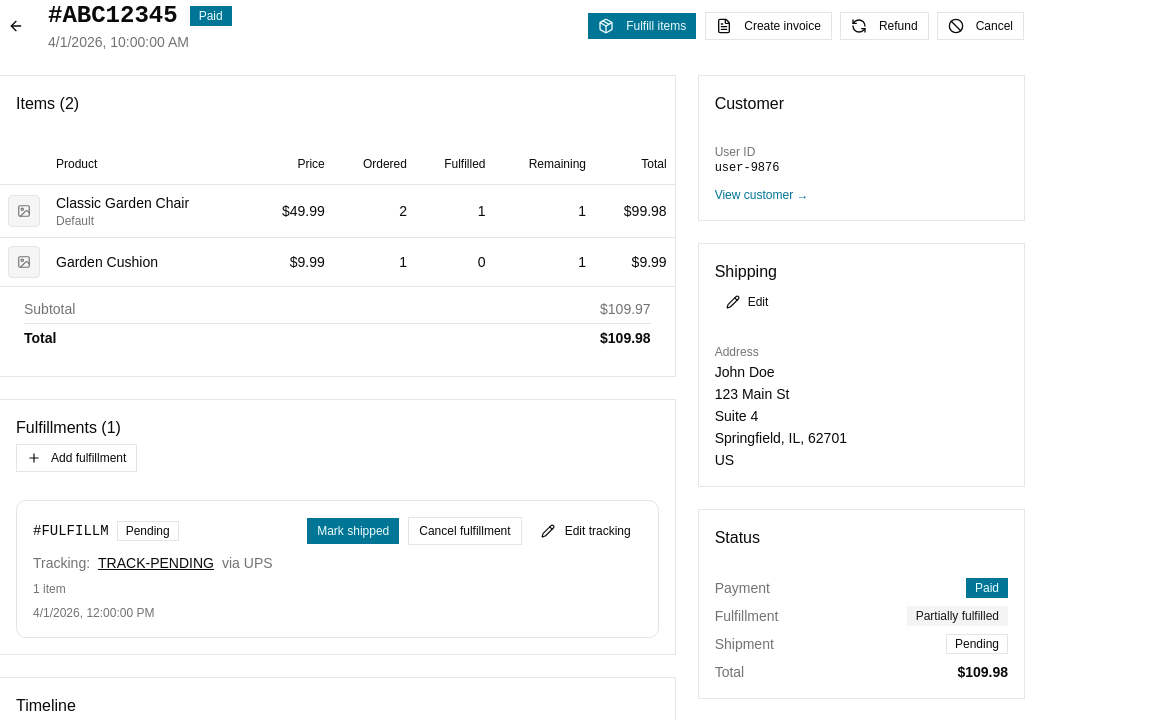
Scenario: OrderDetailPage › fulfillment action button opens confirmation dialog before mutating
Click the button "Mark shipped".
click(353, 530)  # box [306,516,400,544]
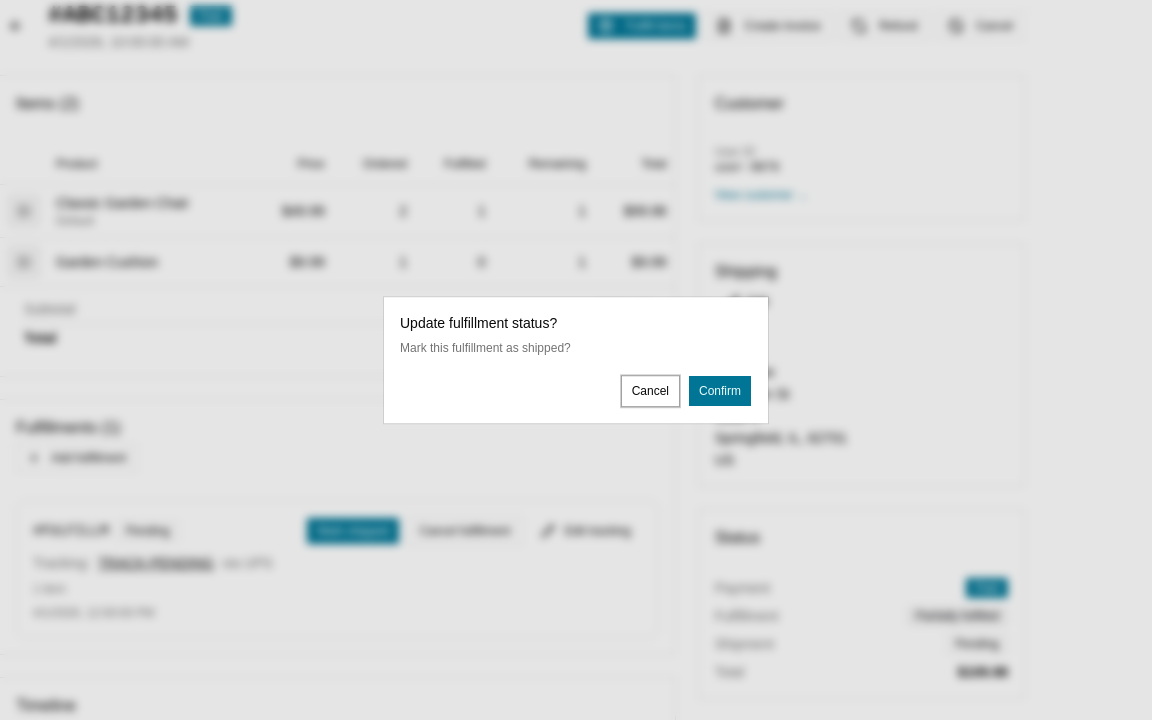
expect the heading "Update fulfillment status?" is shown: met, box [400,313,557,333]
expect the text "Mark this fulfillment as shipped?" is shown: met, box [400,339,571,359]
